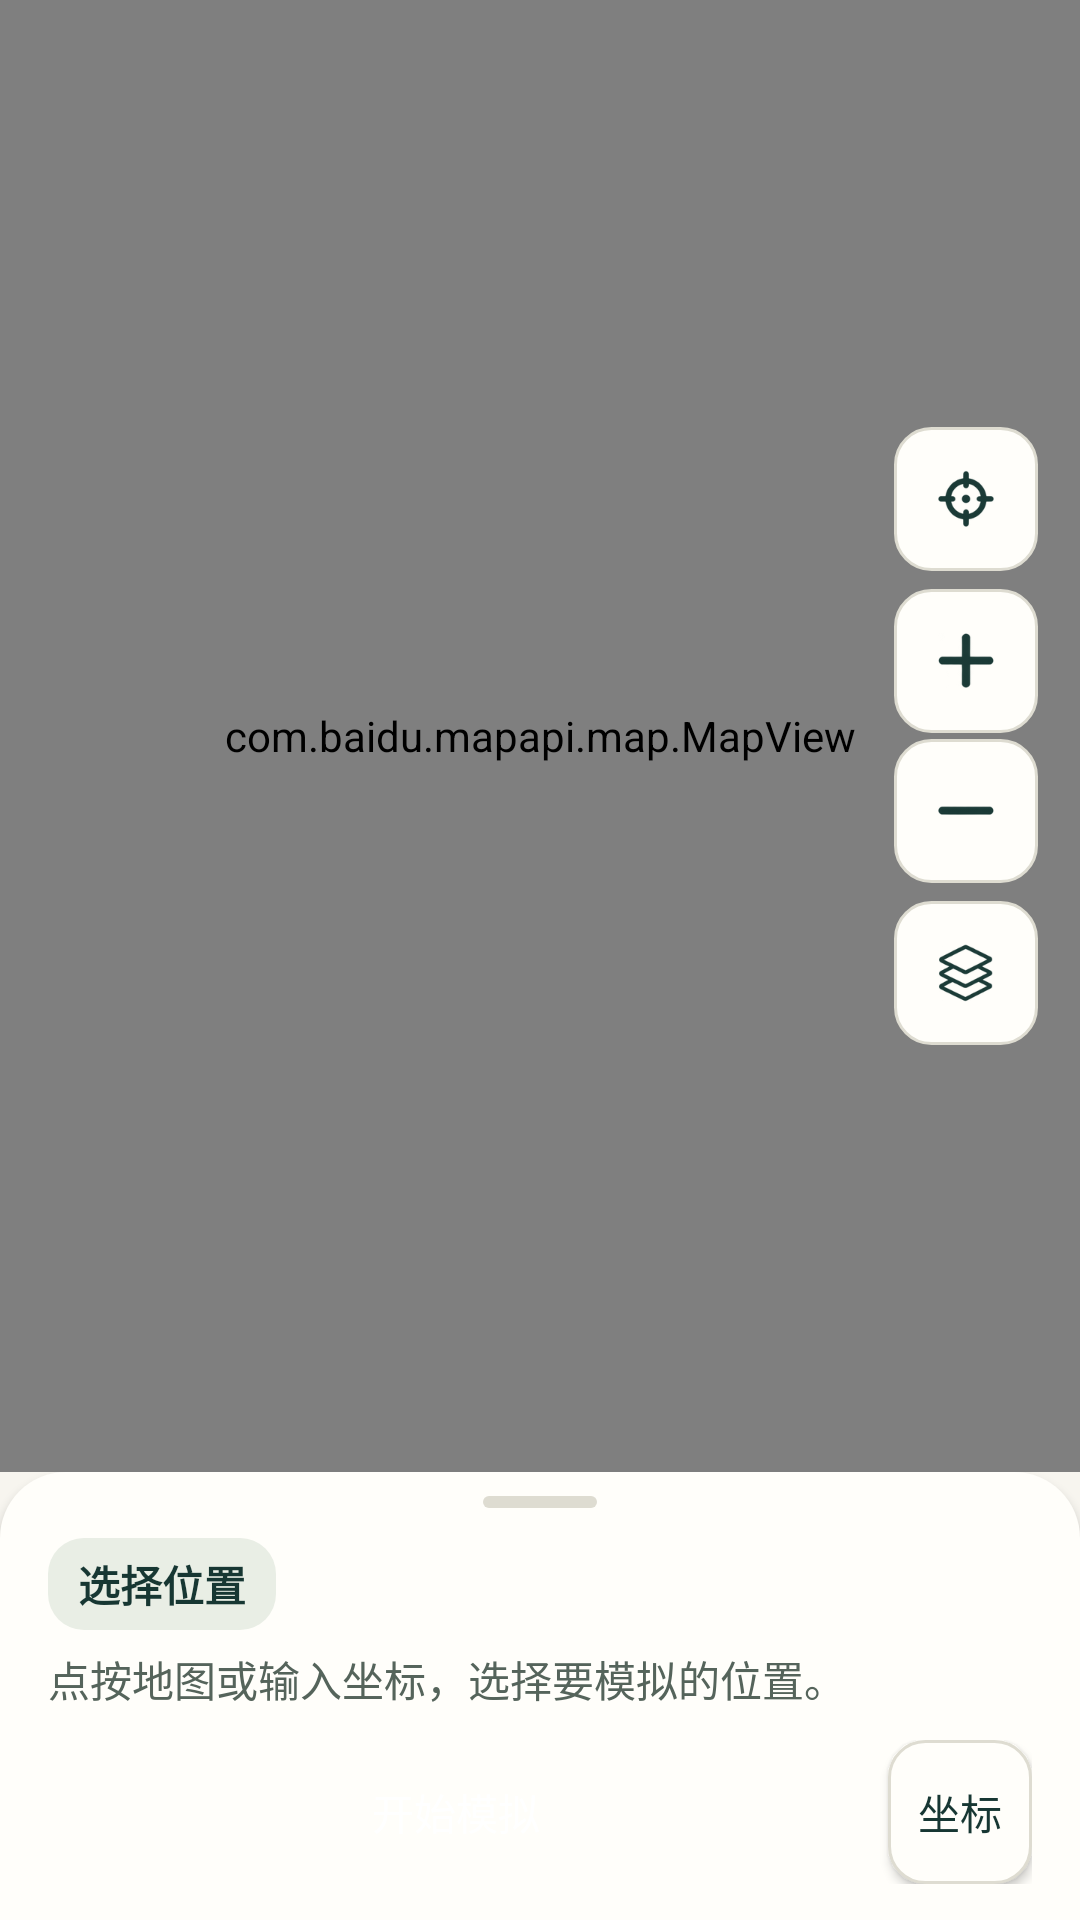

Screen size 1080 x 1920. Icon name, then its center in pixels as (x=x, y=y):
切换地图图层: (x=966, y=973)
放大: (x=966, y=661)
缩小: (x=966, y=811)
返回当前位置: (x=966, y=499)
